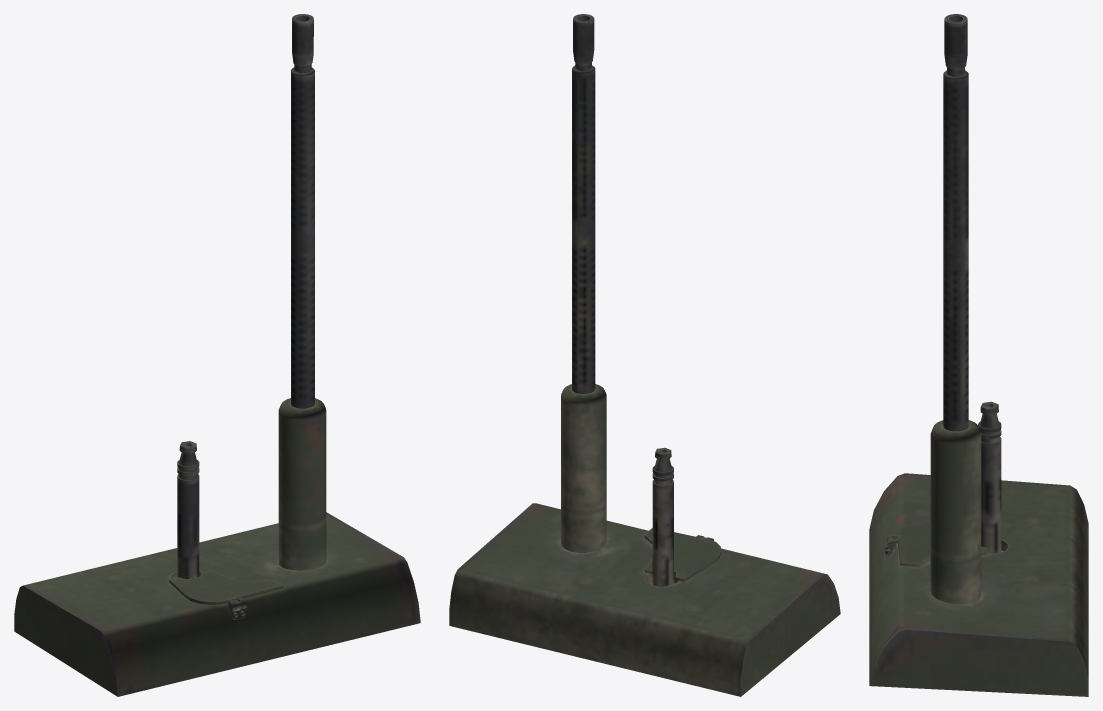
Rendered from Gun_02.glb.
The picture shows the model from 3 angles, left to right: view 1: azimuth 30°, elevation 25°; view 2: azimuth 150°, elevation 25°; view 3: azimuth 270°, elevation 25°; orthographic projection. The views are drawn at different scales.
Parts seen in each view (by area): view 1: set_0_group_0; view 2: set_0_group_0; view 3: set_0_group_0.
Boxes of the visible parts, box(x1,y1,x2,y2) form: set_0_group_0: box(14, 14, 420, 696); set_0_group_0: box(449, 14, 840, 696); set_0_group_0: box(869, 14, 1088, 696).
Size of the model in its own units: 0.7231 by 1.38 by 0.4287.
1 material, 1 textured.
